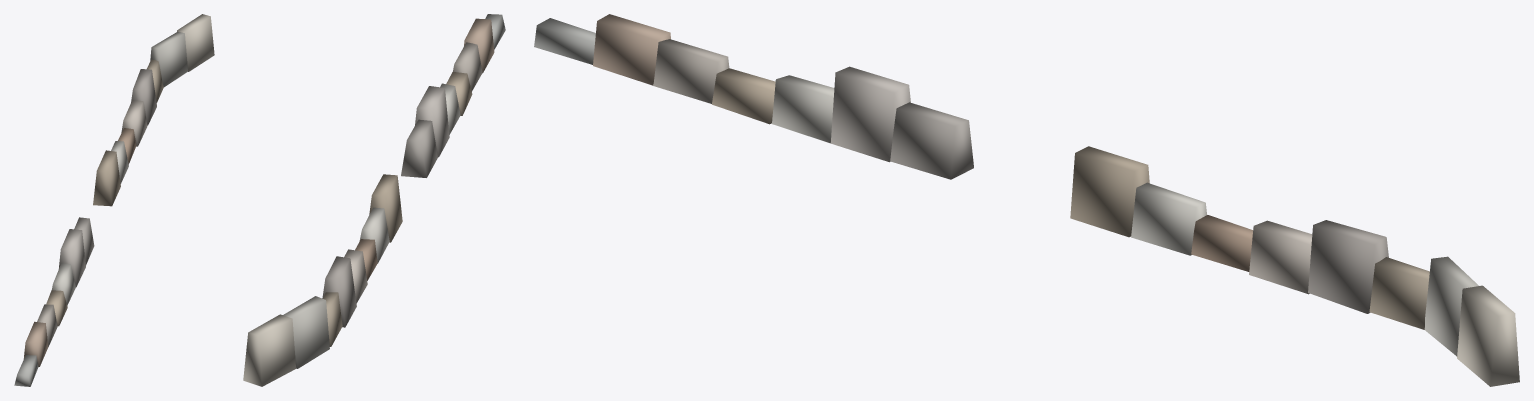
The model's file is farm_-40_-43_far.glb.
3 views of the same model, side by side, from view 1: azimuth 30°, elevation 25°; view 2: azimuth 210°, elevation 25°; view 3: azimuth 270°, elevation 25° (orthographic). The views are drawn at different scales.
Parts seen in each view (by area): view 1: geometry_0; view 2: geometry_0; view 3: geometry_0.
Part boxes in pixels (bbox=[...]): geometry_0: bbox=[14, 14, 214, 386]; geometry_0: bbox=[243, 14, 505, 386]; geometry_0: bbox=[534, 14, 1519, 386].
Bounding box in the file's own units: 19.05 × 2.77 × 19.49.
